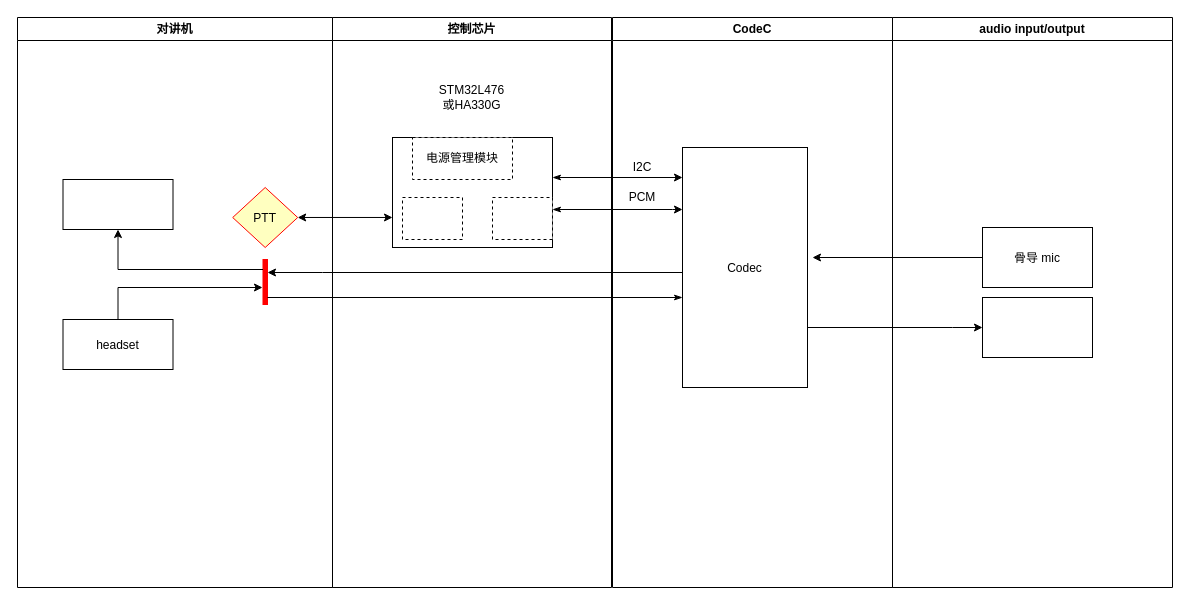
The diagram is 1190 pixels wide and 605 high, and some of its shapes have lost their labels. The shapes that lost their labels are listed below. From the top down, each one's centre as x and y in pixels, then its label:
the point at 117,204: MIC
the point at 432,218: PTT控制模块
the point at 522,218: 算法
the point at 1037,327: 骨导 speaker
